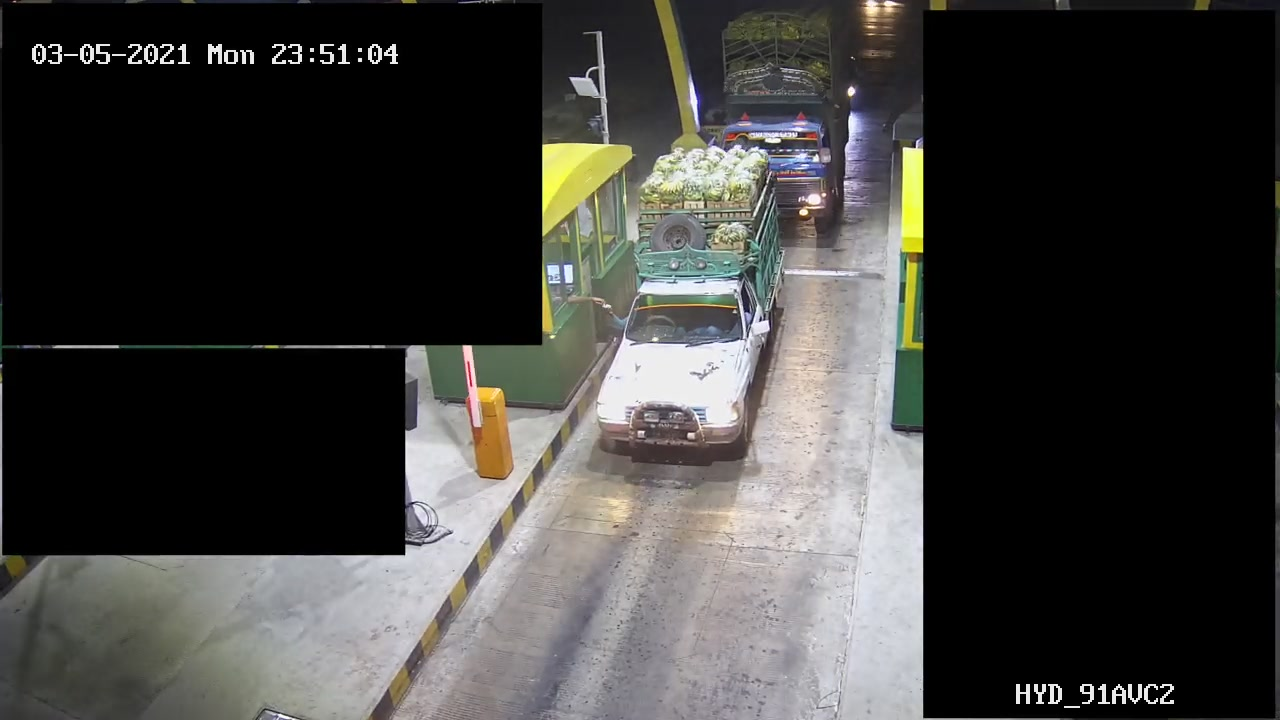F2: (591, 147, 782, 465)
